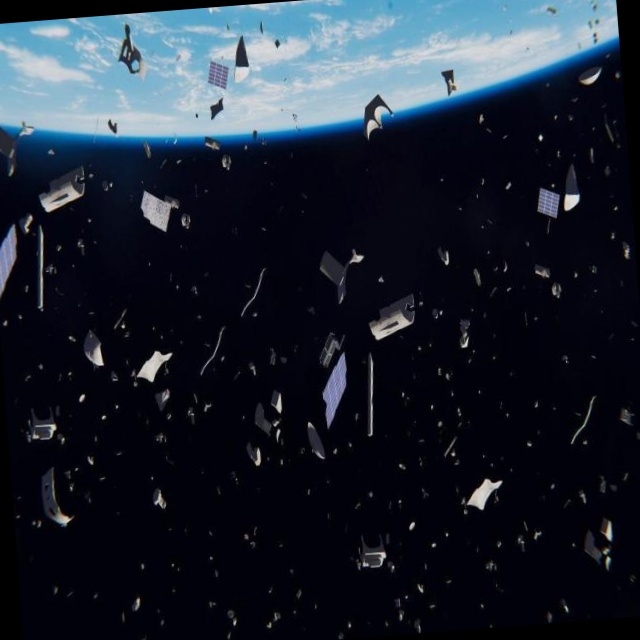large_debris: (426, 365, 470, 458), (580, 510, 624, 571), (468, 250, 518, 299), (0, 116, 36, 180), (352, 531, 399, 580), (63, 451, 109, 495), (564, 395, 598, 447), (605, 203, 631, 262), (615, 397, 640, 452), (511, 514, 544, 550), (534, 264, 564, 300), (414, 579, 439, 619), (216, 602, 242, 640), (82, 330, 105, 372), (454, 310, 475, 351), (480, 541, 502, 576), (262, 602, 285, 635), (584, 0, 601, 44), (601, 115, 620, 152), (391, 591, 411, 625), (150, 483, 169, 513), (241, 523, 260, 553), (437, 241, 453, 270), (169, 132, 183, 165), (104, 117, 122, 141), (138, 140, 156, 164), (501, 175, 517, 201), (101, 175, 119, 198), (131, 589, 144, 617), (597, 472, 610, 495), (207, 553, 219, 577), (545, 2, 560, 20), (586, 141, 597, 165), (430, 305, 444, 323), (478, 173, 490, 194), (31, 517, 44, 534), (77, 390, 89, 408), (524, 437, 536, 454), (459, 495, 468, 517), (563, 598, 572, 619), (621, 467, 631, 485), (576, 489, 587, 504), (421, 561, 432, 576), (408, 521, 418, 536), (53, 580, 60, 601), (533, 398, 542, 414), (187, 407, 195, 425), (396, 461, 406, 475), (546, 479, 557, 491), (155, 432, 167, 443), (45, 264, 56, 276), (589, 264, 599, 277), (232, 467, 239, 485), (544, 609, 553, 621), (0, 317, 8, 330), (429, 539, 438, 550), (366, 487, 374, 499), (296, 589, 304, 601), (525, 239, 533, 251), (562, 354, 569, 367), (17, 490, 24, 503), (57, 434, 65, 445), (14, 511, 22, 522), (421, 487, 429, 498), (537, 133, 544, 145), (23, 282, 29, 296), (274, 38, 281, 50), (204, 402, 212, 412), (259, 20, 264, 36), (444, 530, 451, 541), (48, 146, 55, 157), (191, 286, 198, 296), (572, 271, 579, 281), (347, 621, 354, 631), (418, 455, 424, 466), (55, 405, 60, 417), (590, 353, 596, 363), (69, 335, 76, 343), (209, 600, 216, 608), (524, 312, 528, 326), (18, 312, 23, 323), (487, 217, 493, 226), (53, 585, 58, 595), (398, 498, 403, 508), (354, 503, 361, 510), (166, 413, 172, 421), (338, 632, 344, 640), (333, 447, 338, 456), (439, 176, 445, 183), (38, 363, 43, 371), (93, 593, 98, 601), (268, 588, 273, 596), (289, 567, 294, 575), (159, 619, 164, 626), (454, 459, 459, 466), (58, 373, 62, 381), (175, 284, 180, 290), (141, 636, 148, 640), (307, 489, 311, 496), (101, 415, 106, 420), (117, 452, 122, 457), (204, 343, 210, 347), (94, 436, 98, 442), (208, 531, 212, 537), (327, 513, 330, 521), (459, 206, 463, 212), (481, 224, 485, 230), (534, 315, 538, 321), (141, 563, 144, 570), (293, 609, 296, 616), (475, 192, 478, 199), (68, 371, 72, 376), (115, 404, 118, 409), (171, 563, 174, 568), (172, 589, 175, 594), (279, 544, 282, 548), (157, 609, 159, 614), (184, 528, 186, 533), (169, 529, 172, 532)
